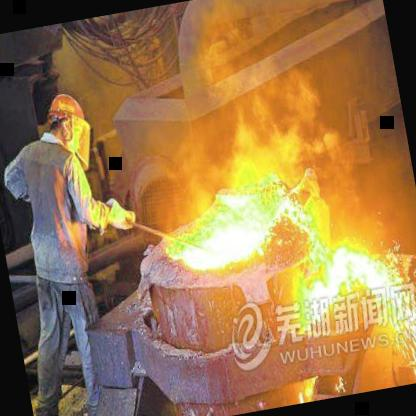helmet: (38, 88, 93, 158)
